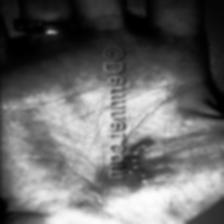Toxin: (118, 138, 156, 186)
